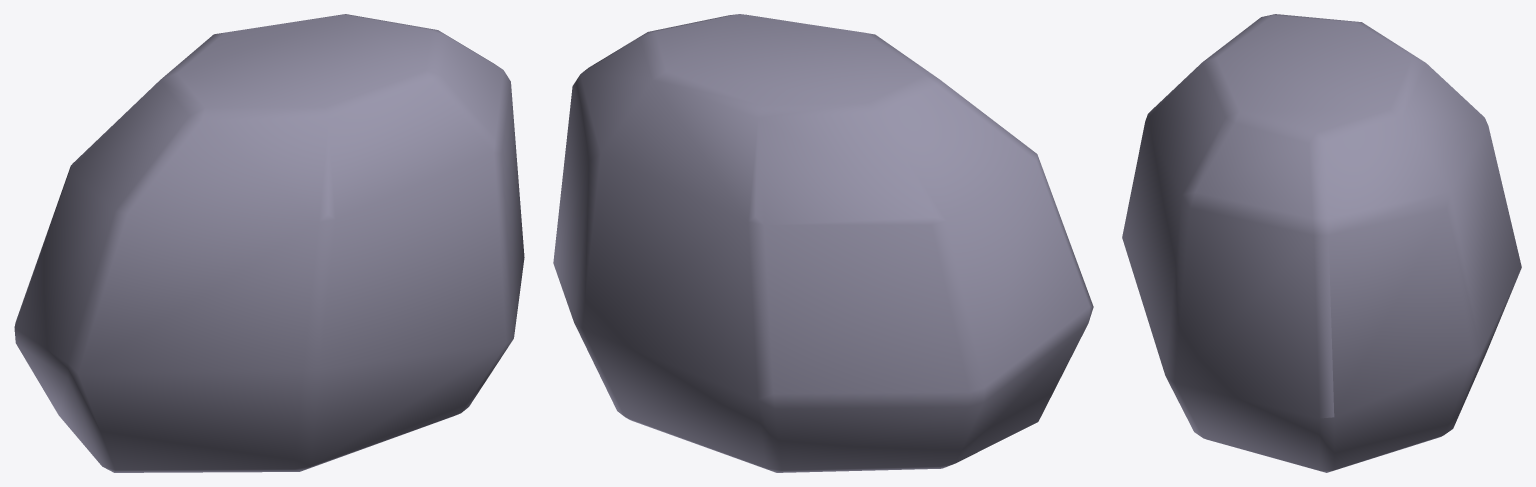
File: rock_medium_02.glb
The picture shows the model from 3 angles, left to right: view 1: azimuth 30°, elevation 25°; view 2: azimuth 150°, elevation 25°; view 3: azimuth 270°, elevation 25°; orthographic projection. The views are drawn at different scales.
Visible parts, largest first — view 1: rock_medium_02; view 2: rock_medium_02; view 3: rock_medium_02.
Boxes of the visible parts, x1,y1,x2,y2 form: rock_medium_02: [14, 14, 524, 472]; rock_medium_02: [553, 14, 1093, 472]; rock_medium_02: [1122, 14, 1521, 472].
Size of the model in its own units: 0.7573 by 0.49 by 0.5497.
